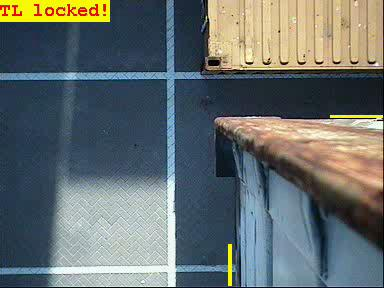groundmarker_2: (128, 71, 189, 113), (129, 246, 190, 288)
